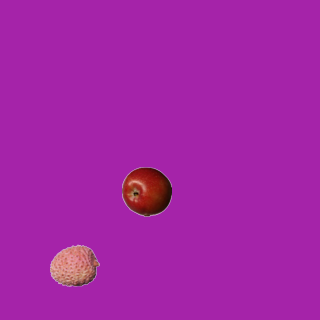Apple Braeburn: (121, 166, 171, 216)
Lychee: (49, 240, 99, 290)
